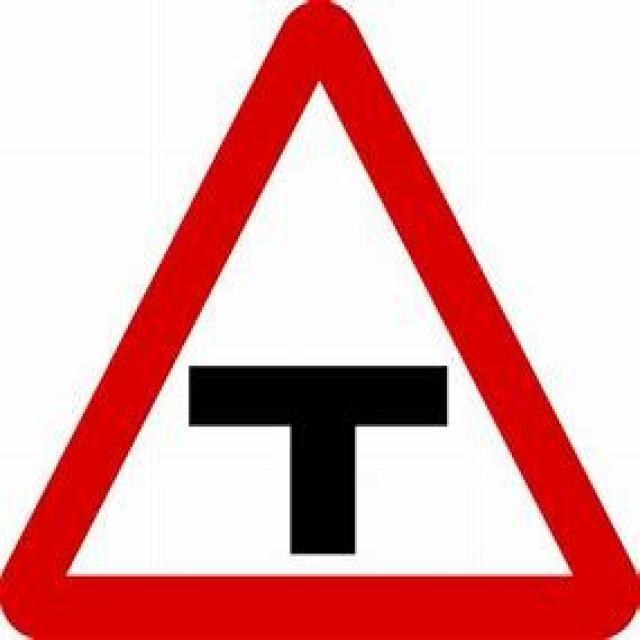t intersection: (24, 26, 610, 621)
